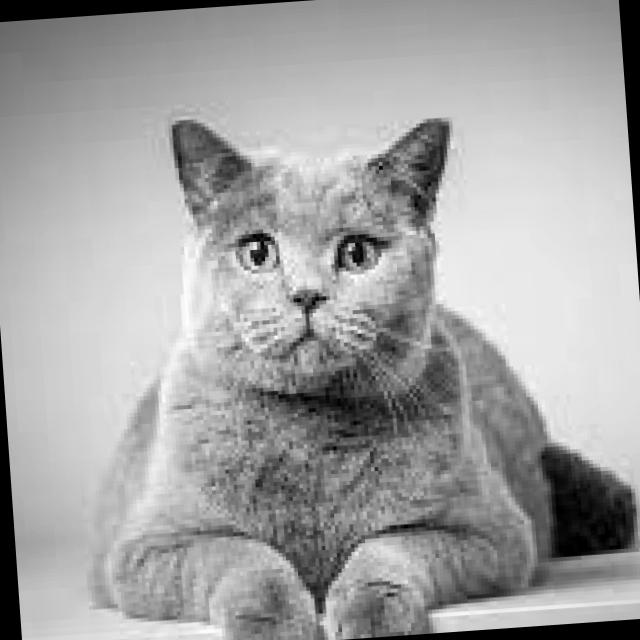british: (152, 80, 482, 405)
